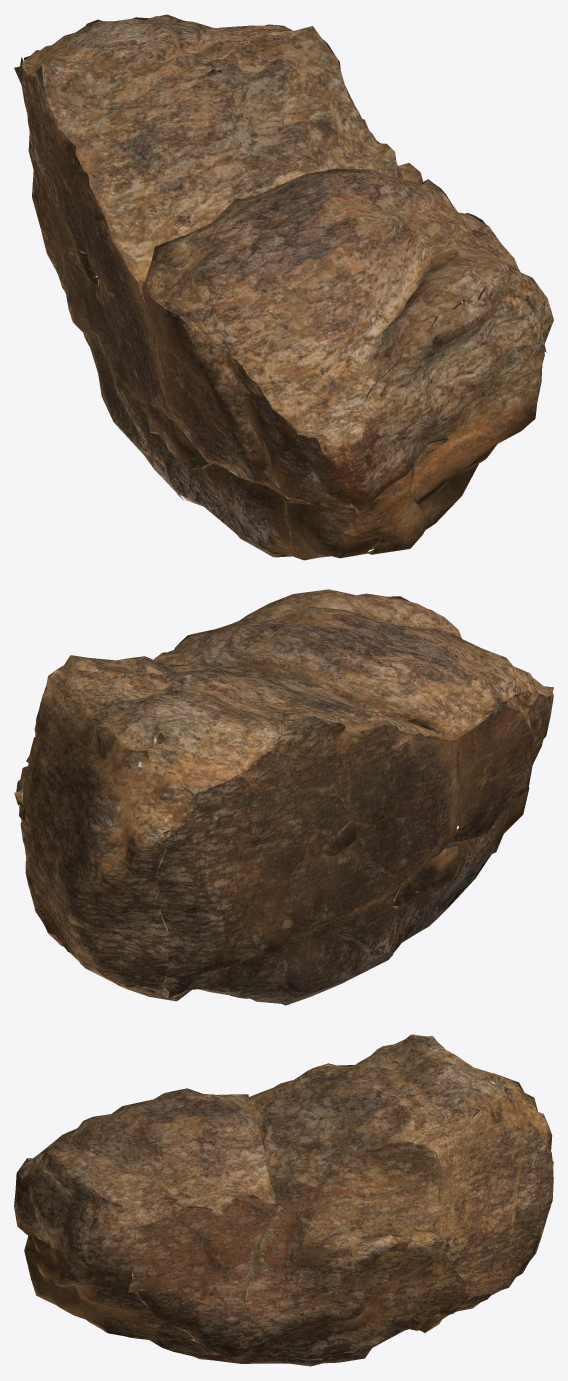
Rendered from kaya_orta.gltf.
3 renders of one model, top to bottom at view 1: azimuth 30°, elevation 25°; view 2: azimuth 150°, elevation 25°; view 3: azimuth 270°, elevation 25°, orthographic. The views are drawn at different scales.
Parts seen in each view (by area): view 1: kaya_orta; view 2: kaya_orta; view 3: kaya_orta.
Part boxes in pixels (left/top/right/bottom): kaya_orta: left=14, top=14, right=553, bottom=560; kaya_orta: left=14, top=589, right=553, bottom=1005; kaya_orta: left=14, top=1034, right=553, bottom=1366.
Size of what is drawn, in the model's own units: 0.6725 by 0.6509 by 1.21.
Materials: 1 (1 with a texture image).
